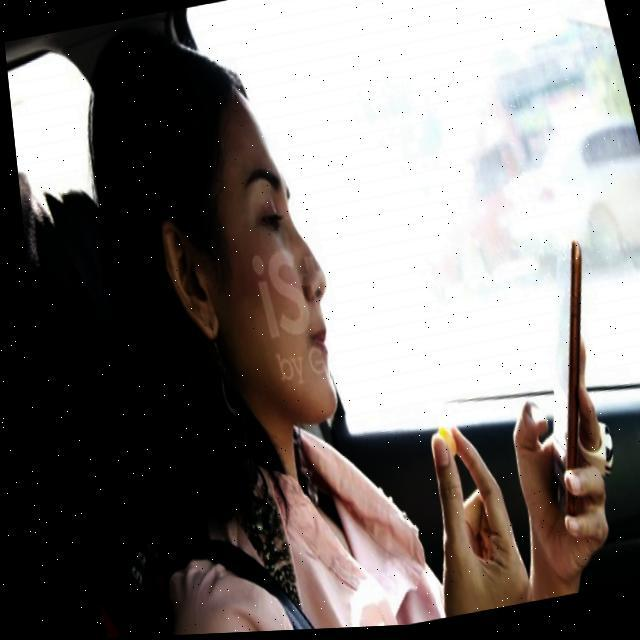PhoneCall: (491, 248, 634, 534)
